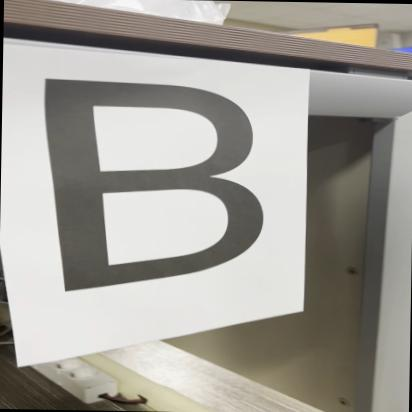seat: (23, 67, 280, 295)
